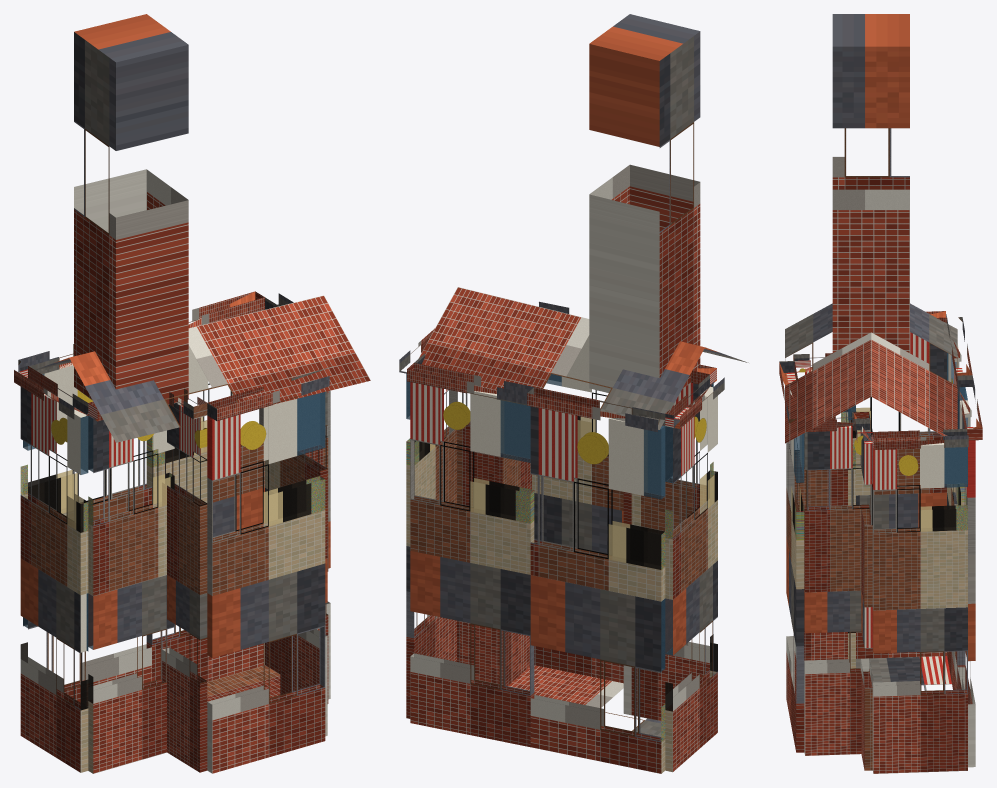
3 views of the same model, side by side, from view 1: azimuth 30°, elevation 25°; view 2: azimuth 150°, elevation 25°; view 3: azimuth 270°, elevation 25° (orthographic). The views are drawn at different scales.
Parts seen in each view (by area): view 1: 361992700__chimney_0_xb, 361992700__wall_8_xb, 361992700__wall_1_xb, 361992700__wall_2_xb, 361992700_roof_-1_xb, 361992700__wall_0_xb, 361992700__wall_4_xb, 361992700__wall_3_xb, 361992700__wall_7_xb, 361992700__wall_8_xf, 361992700__wall_5_xb, 361992700__cornice_8 (+8 smaller); view 2: 361992700__chimney_0_xb, 361992700__wall_3_xb, 361992700__wall_4_xb, 361992700_roof_1_xb, 361992700__wall_2_xb, 361992700__wall_8_xb, 361992700__wall_5_xb, 361992700__wall_1_xb, 361992700__wall_6_xb, 361992700__wall_3_xf, 361992700__wall_4_xf, 361992700__base (+6 smaller); view 3: 361992700__wall_5_xb, 361992700__chimney_0_xb, 361992700__wall_7_xb, 361992700_roof_-1_xb, 361992700_roof_1_xb, 361992700__wall_2_xb, 361992700__wall_8_xb, 361992700__wall_6_xb, 361992700__wall_4_xb, 361992700__wall_0_xb, 361992700__wall_5_xf, 361992700__base (+8 smaller).
Part boxes in pixels (bbox=[...]): 361992700__chimney_0_xb: bbox=[74, 14, 188, 404]; 361992700__wall_8_xb: bbox=[207, 392, 325, 773]; 361992700__wall_1_xb: bbox=[88, 415, 174, 773]; 361992700__wall_2_xb: bbox=[20, 387, 88, 772]; 361992700_roof_-1_xb: bbox=[69, 295, 370, 442]; 361992700__wall_0_xb: bbox=[162, 402, 207, 772]; 361992700__wall_4_xb: bbox=[146, 345, 264, 681]; 361992700__wall_3_xb: bbox=[23, 363, 151, 702]; 361992700__wall_7_xb: bbox=[280, 391, 327, 736]; 361992700__wall_8_xf: bbox=[264, 392, 324, 525]; 361992700__wall_5_xb: bbox=[265, 390, 330, 699]; 361992700__cornice_8: bbox=[207, 370, 329, 420]; 361992700__chimney_0_xb: bbox=[589, 14, 700, 392]; 361992700__wall_3_xb: bbox=[530, 406, 665, 773]; 361992700__wall_4_xb: bbox=[410, 382, 534, 747]; 361992700_roof_1_xb: bbox=[418, 287, 704, 429]; 361992700__wall_2_xb: bbox=[665, 386, 717, 772]; 361992700__wall_8_xb: bbox=[532, 335, 623, 683]; 361992700__wall_5_xb: bbox=[406, 374, 456, 718]; 361992700__wall_1_xb: bbox=[631, 383, 713, 721]; 361992700__wall_6_xb: bbox=[457, 387, 502, 685]; 361992700__wall_3_xf: bbox=[608, 426, 664, 740]; 361992700__wall_4_xf: bbox=[470, 400, 533, 522]; 361992700__base: bbox=[508, 665, 661, 736]; 361992700__wall_5_xb: bbox=[872, 443, 967, 773]; 361992700__chimney_0_xb: bbox=[832, 14, 909, 352]; 361992700__wall_7_xb: bbox=[804, 426, 869, 755]; 361992700_roof_-1_xb: bbox=[785, 303, 871, 443]; 361992700_roof_1_xb: bbox=[871, 303, 957, 436]; 361992700__wall_2_xb: bbox=[849, 332, 946, 658]; 361992700__wall_8_xb: bbox=[786, 372, 804, 752]; 361992700__wall_6_xb: bbox=[860, 430, 872, 770]; 361992700__wall_4_xb: bbox=[957, 387, 975, 767]; 361992700__wall_0_xb: bbox=[794, 368, 855, 660]; 361992700__wall_5_xf: bbox=[902, 447, 967, 531]; 361992700__base: bbox=[856, 656, 951, 690].
Size of the model in its own units: 0.5856 by 1.4 by 0.3949.
1 material, 1 textured.
